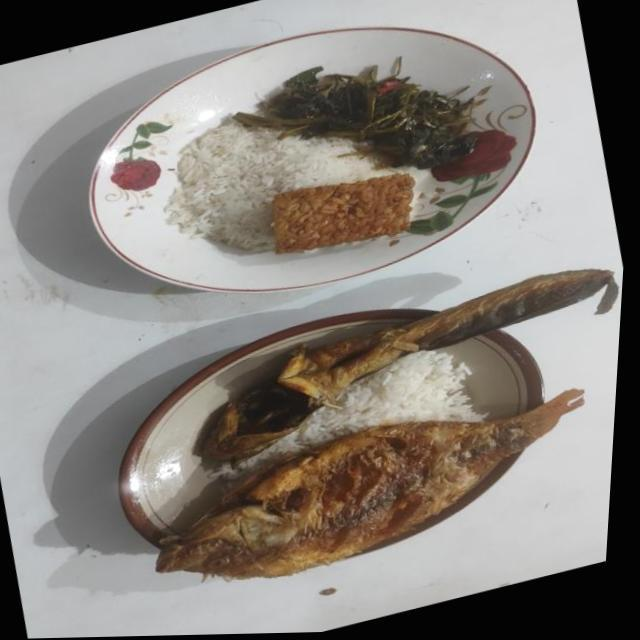ikan_mujair: (158, 389, 580, 578)
nasi_putih: (164, 121, 428, 254), (242, 350, 488, 468)
tempe_goreng: (272, 174, 414, 253)
tumis_kangkung: (232, 65, 480, 169)
